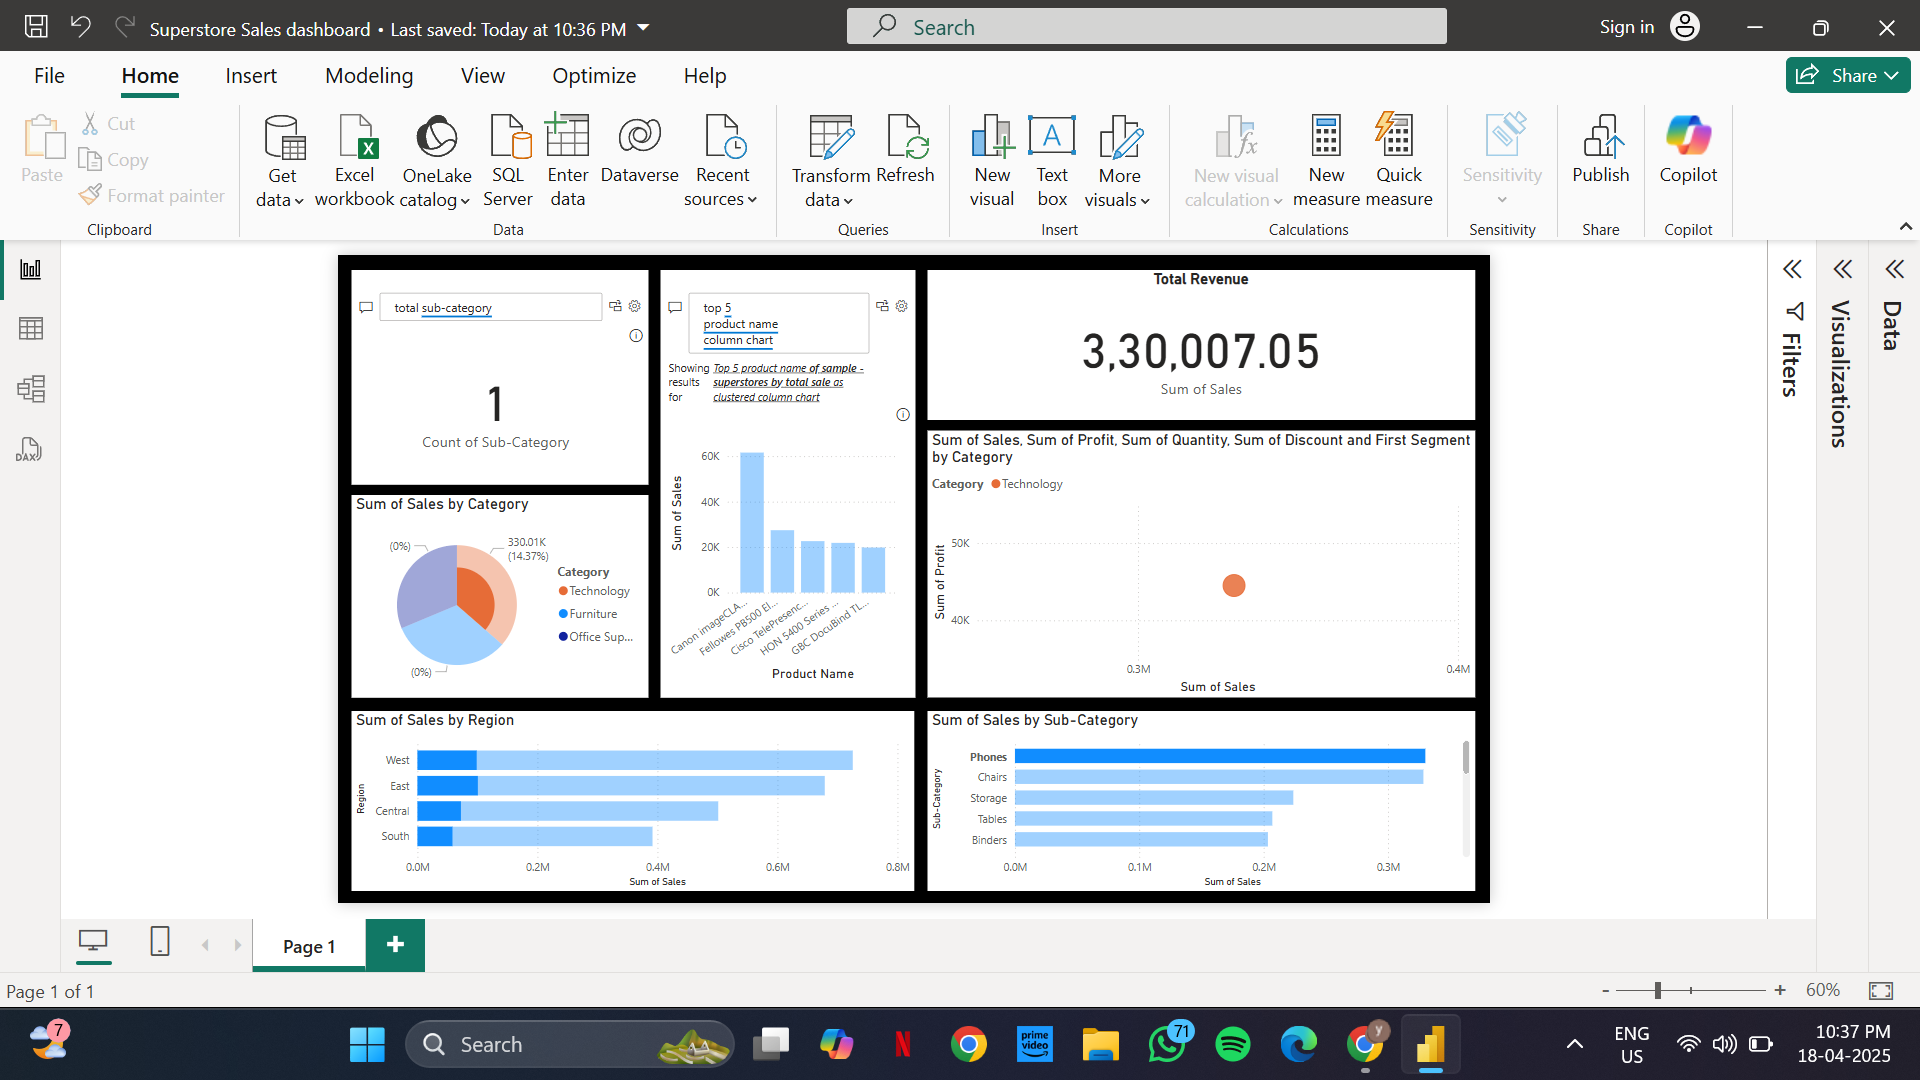

The page's visual inventory and layout, read from the dashboard file:
{"tool":"powerbi","page":{"name":"Page 1","canvas":[1280,720],"ordinal":0},"visuals":[{"type":"card","title":"Total Revenue","fields":{"Values":["Sum(Sample - Superstore.Sales)"]},"box":[655,16.7,608.3,166.7],"z":0},{"type":"barChart","fields":{"Category":["Sample - Superstore.Region"],"Y":["Sum(Sample - Superstore.Sales)"]},"box":[15.1,506.5,625.5,200.3],"z":1},{"type":"pieChart","fields":{"Category":["Sample - Superstore.Category"],"Y":["Sum(Sample - Superstore.Sales)"]},"box":[15,266.7,330,225],"z":2},{"type":"barChart","fields":{"Category":["Sample - Superstore.Sub-Category"],"Y":["Sum(Sample - Superstore.Sales)"]},"box":[655.8,506.5,608.5,200.3],"z":3},{"type":"scatterChart","fields":{"X":["Sum(Sample - Superstore.Sales)"],"Y":["Sum(Sample - Superstore.Profit)"],"Series":["Sample - Superstore.Category"],"Size":["Sum(Sample - Superstore.Quantity)"]},"box":[655.8,194.6,608.5,296.7],"z":4},{"type":"qnaVisual","box":[15,16.7,330,238.3],"z":6},{"type":"qnaVisual","box":[358.3,16.7,283.3,475],"z":7}]}

Visuals, with their boxes on the page's 1280x720 design canvas (x1, y1, x2, y2). These are canvas units, not pixel positions in the 1920x1080 screenshot, which may show the page scaled, cropped or inside an application window:
"Total Revenue" card: (655,17,1263,183)
barChart - Sample - Superstore.Region x Sum(Sample - Superstore.Sales): (15,506,641,707)
pieChart - Sample - Superstore.Category x Sum(Sample - Superstore.Sales): (15,267,345,492)
barChart - Sample - Superstore.Sub-Category x Sum(Sample - Superstore.Sales): (656,506,1264,707)
scatterChart - Sum(Sample - Superstore.Sales) x Sum(Sample - Superstore.Profit): (656,195,1264,491)
qnaVisual: (15,17,345,255)
qnaVisual: (358,17,642,492)
